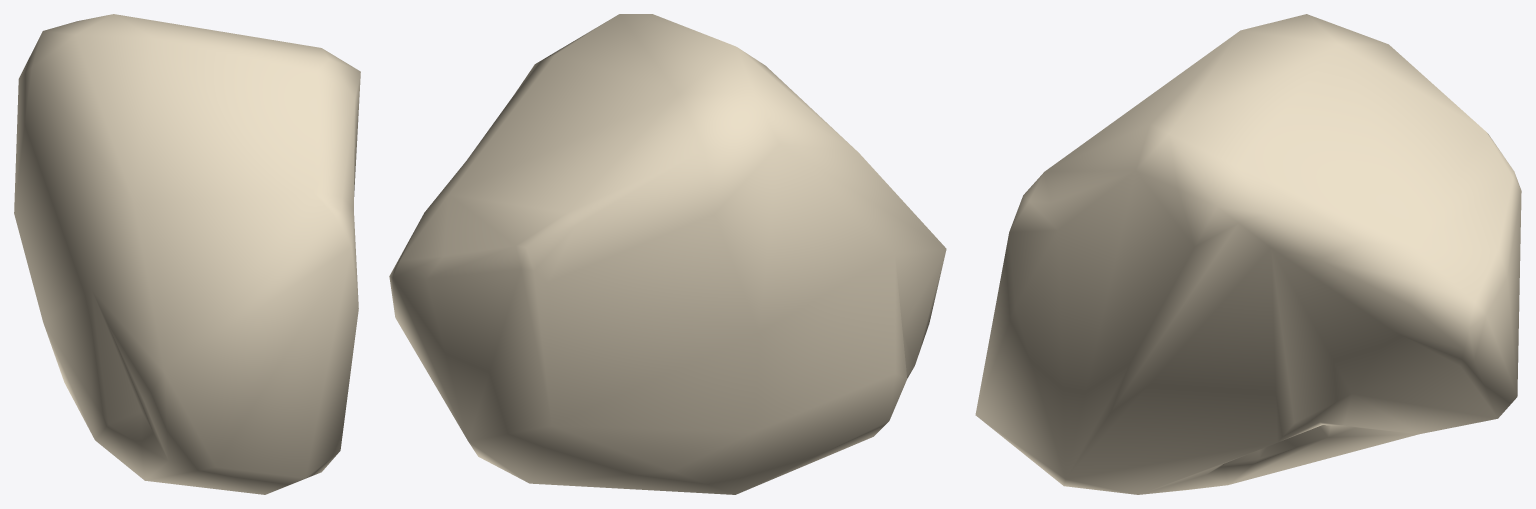
File: triquetrum-bone-l.glb
3 views of the same model, side by side, from view 1: azimuth 30°, elevation 25°; view 2: azimuth 150°, elevation 25°; view 3: azimuth 270°, elevation 25° (orthographic). The views are drawn at different scales.
Visible parts, largest first — view 1: Triquetrum bone.l; view 2: Triquetrum bone.l; view 3: Triquetrum bone.l.
Part boxes in pixels (x1=…): Triquetrum bone.l: x1=14, y1=14, x2=360, y2=494; Triquetrum bone.l: x1=389, y1=14, x2=946, y2=494; Triquetrum bone.l: x1=975, y1=14, x2=1521, y2=494.
Size of the model in its own units: 0.0111 by 0.0143 by 0.0159.
